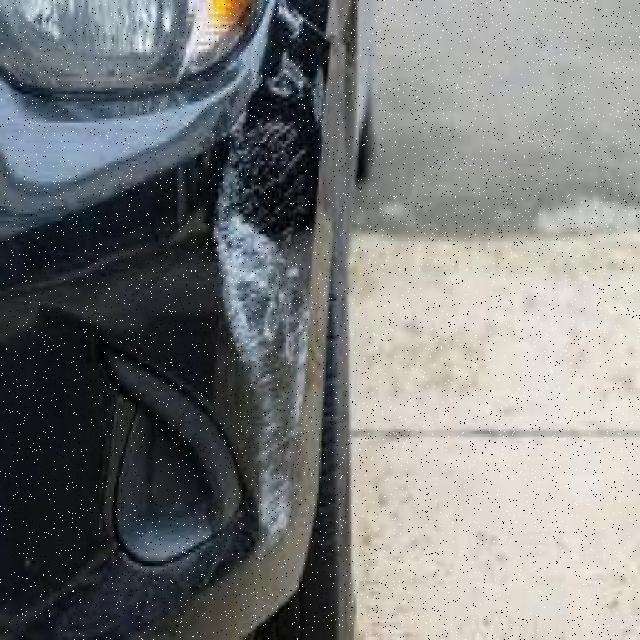damage: (209, 7, 326, 539)
